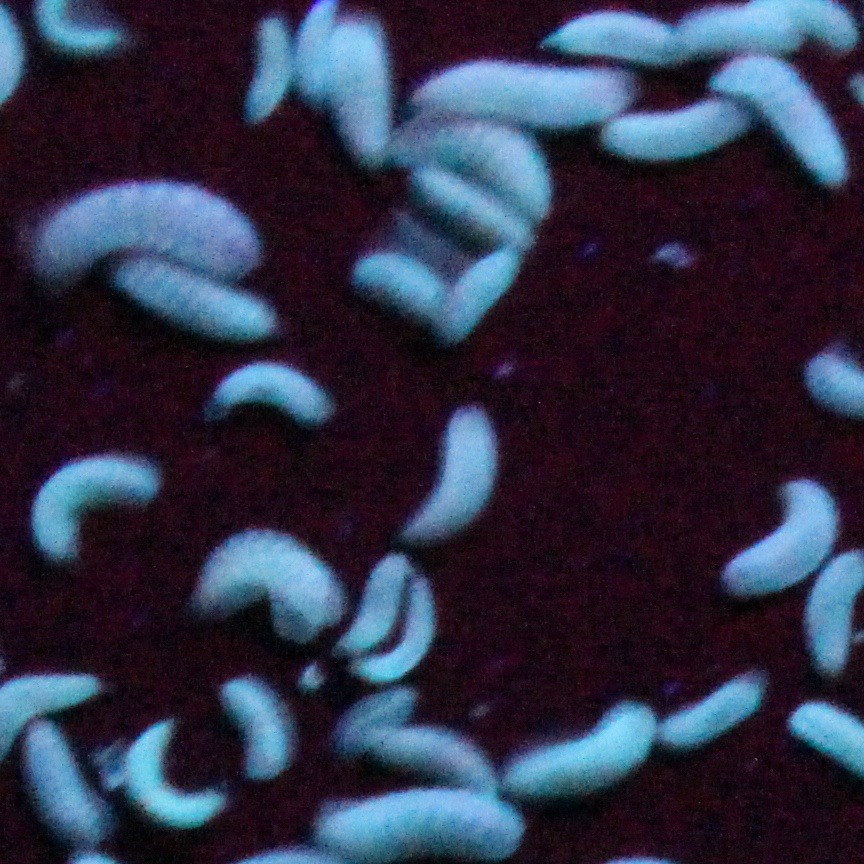larve: (20, 163, 274, 264), (181, 517, 341, 643), (392, 403, 509, 556), (21, 449, 165, 573), (513, 691, 655, 806), (404, 56, 614, 119), (313, 798, 511, 859), (18, 729, 125, 838), (770, 55, 850, 194), (717, 472, 814, 578), (427, 250, 521, 357), (118, 275, 278, 335), (211, 675, 297, 782), (132, 724, 209, 836), (660, 664, 762, 748), (542, 6, 683, 66), (337, 15, 397, 152), (202, 363, 334, 420), (615, 104, 751, 159), (30, 1, 139, 64), (379, 726, 492, 784), (239, 13, 288, 128), (434, 136, 542, 184), (356, 557, 404, 654), (295, 1, 330, 120), (694, 11, 785, 54), (437, 182, 507, 229), (797, 1, 852, 37)
